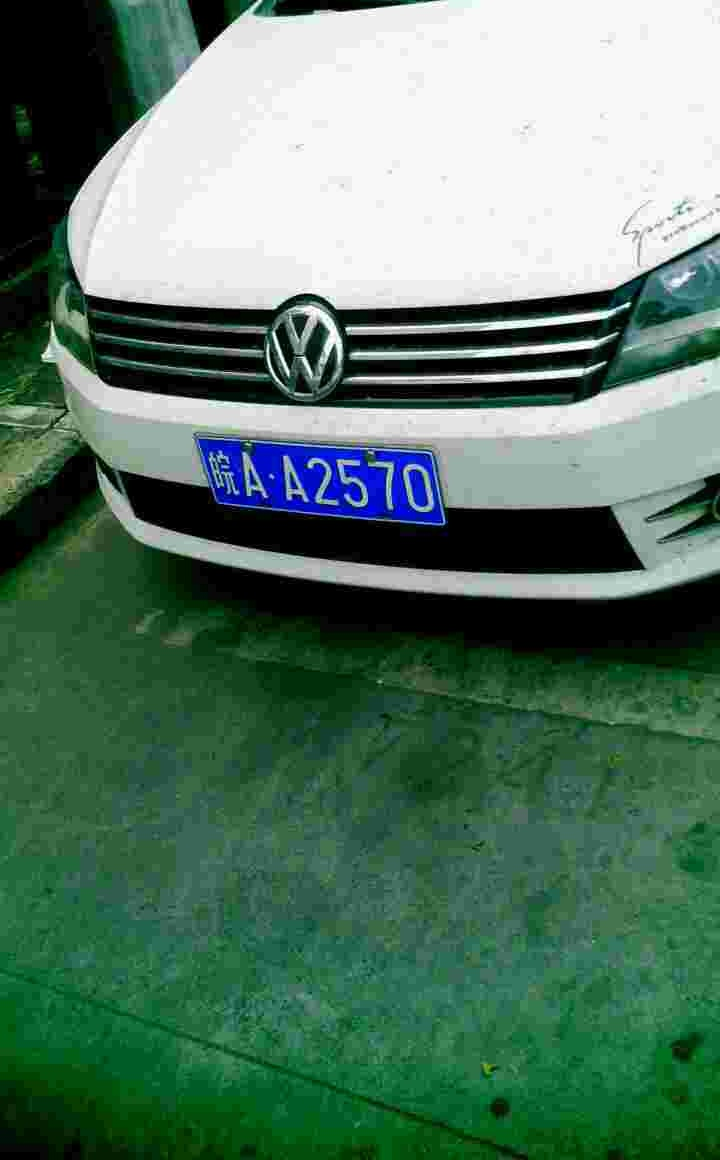license_plate: (195, 429, 452, 524)
